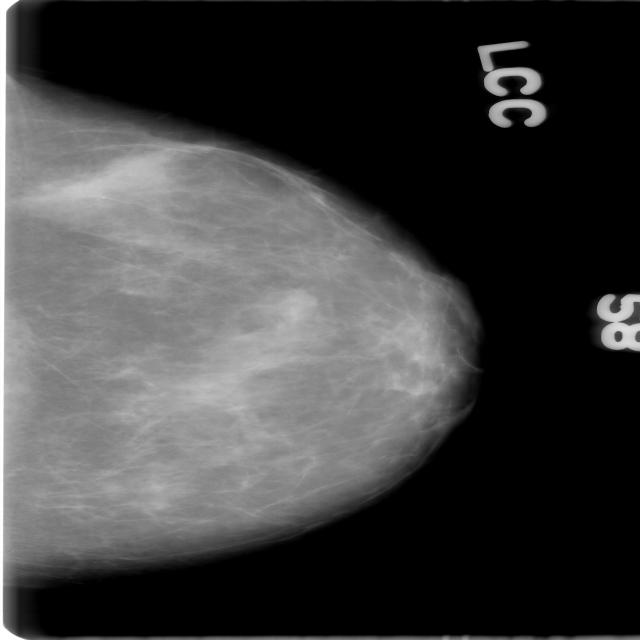cancer: (173, 267, 350, 458), (86, 118, 284, 222)
